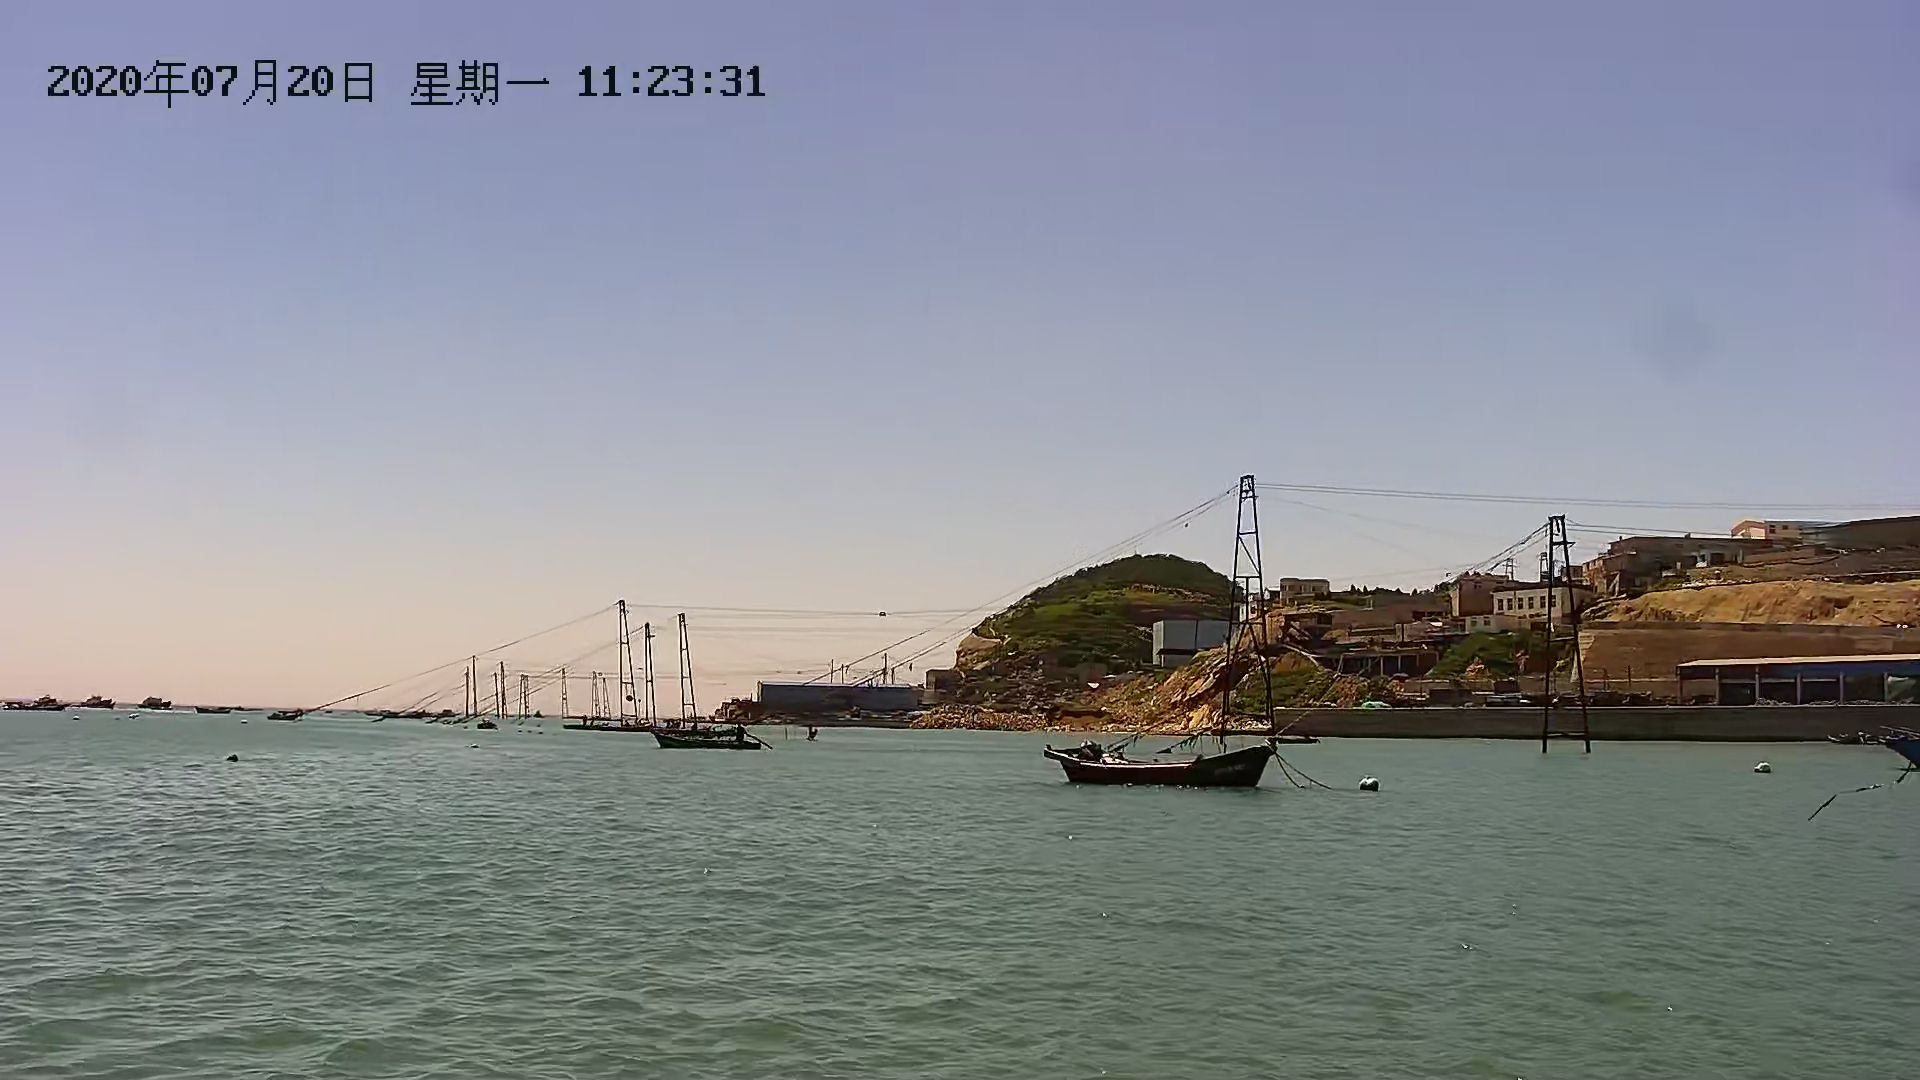ball: (1346, 778, 1385, 799), (1747, 756, 1780, 777)
boat: (1035, 737, 1279, 785), (638, 723, 775, 756)
mast: (1225, 469, 1288, 756), (1540, 513, 1596, 757)
